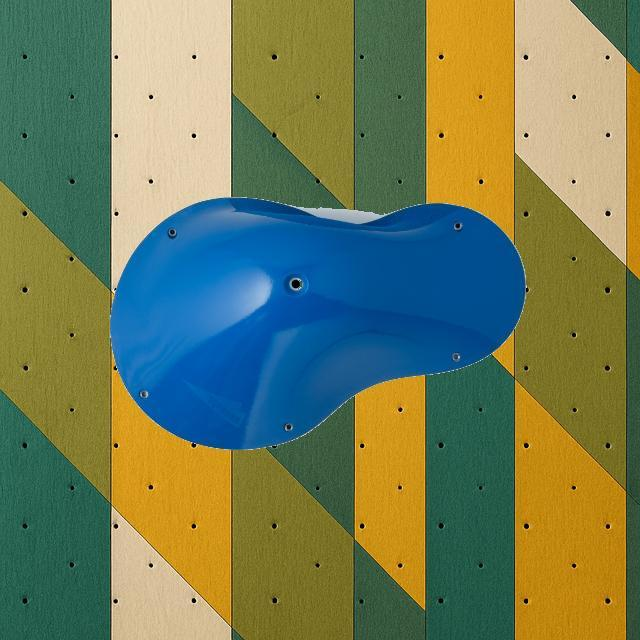Sloper: (110, 196, 524, 449)
